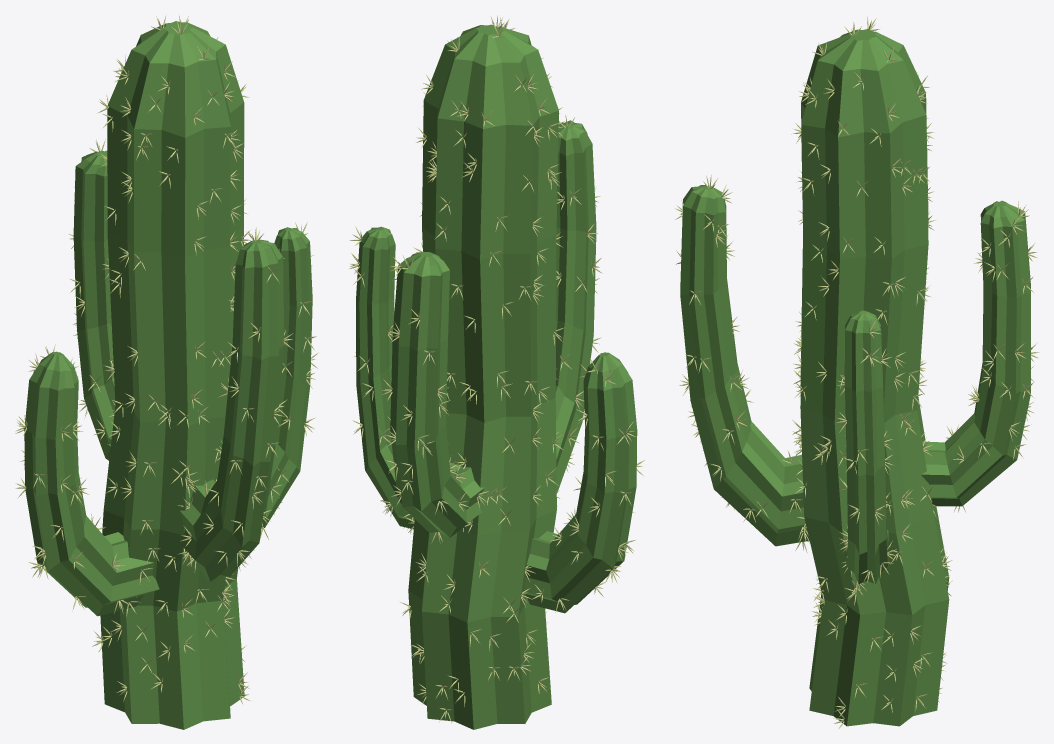
The model's file is Cactus_Tree_002.fbx.
The picture shows the model from 3 angles, left to right: view 1: azimuth 30°, elevation 25°; view 2: azimuth 150°, elevation 25°; view 3: azimuth 270°, elevation 25°; orthographic projection. The views are drawn at different scales.
Parts seen in each view (by area): view 1: Cactus_Tree_002; view 2: Cactus_Tree_002; view 3: Cactus_Tree_002.
Part boxes in pixels (x1,y1,x2,y2): Cactus_Tree_002: [15, 14, 318, 729]; Cactus_Tree_002: [349, 16, 644, 729]; Cactus_Tree_002: [675, 16, 1038, 729].
Size of the model in its own units: 213 by 480 by 235.
